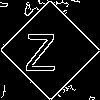Z: (25, 25, 56, 71)
